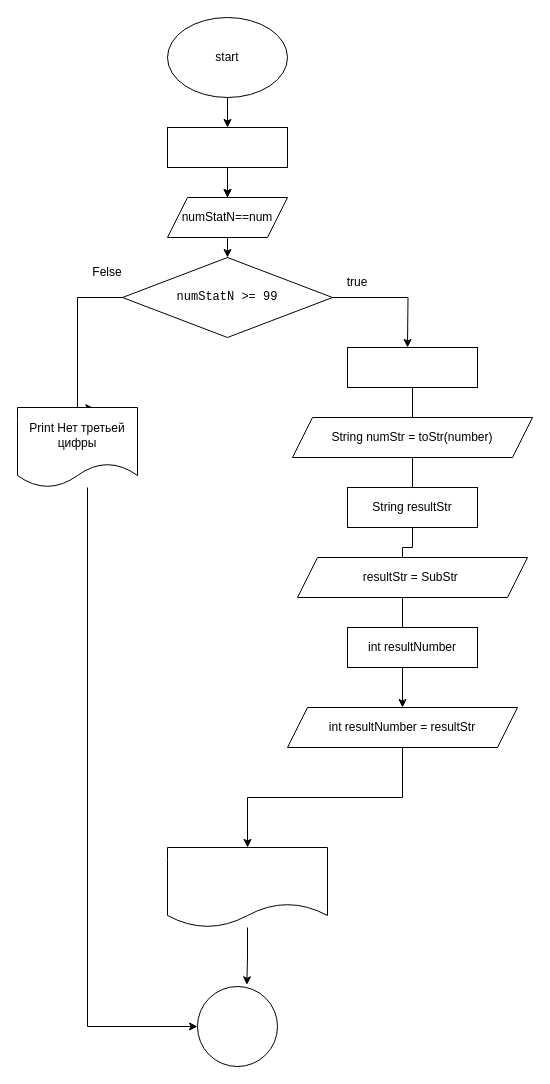
Image size: 550x1084. Some labels were removed from this diagram. The box of each missing label's shape, as (x1, y1, x2, y2) in pixels:
end: (196, 986, 278, 1066)
numStatN: (166, 126, 288, 168)
print resultNumber: (166, 846, 328, 928)
String numStr: (346, 346, 478, 388)
